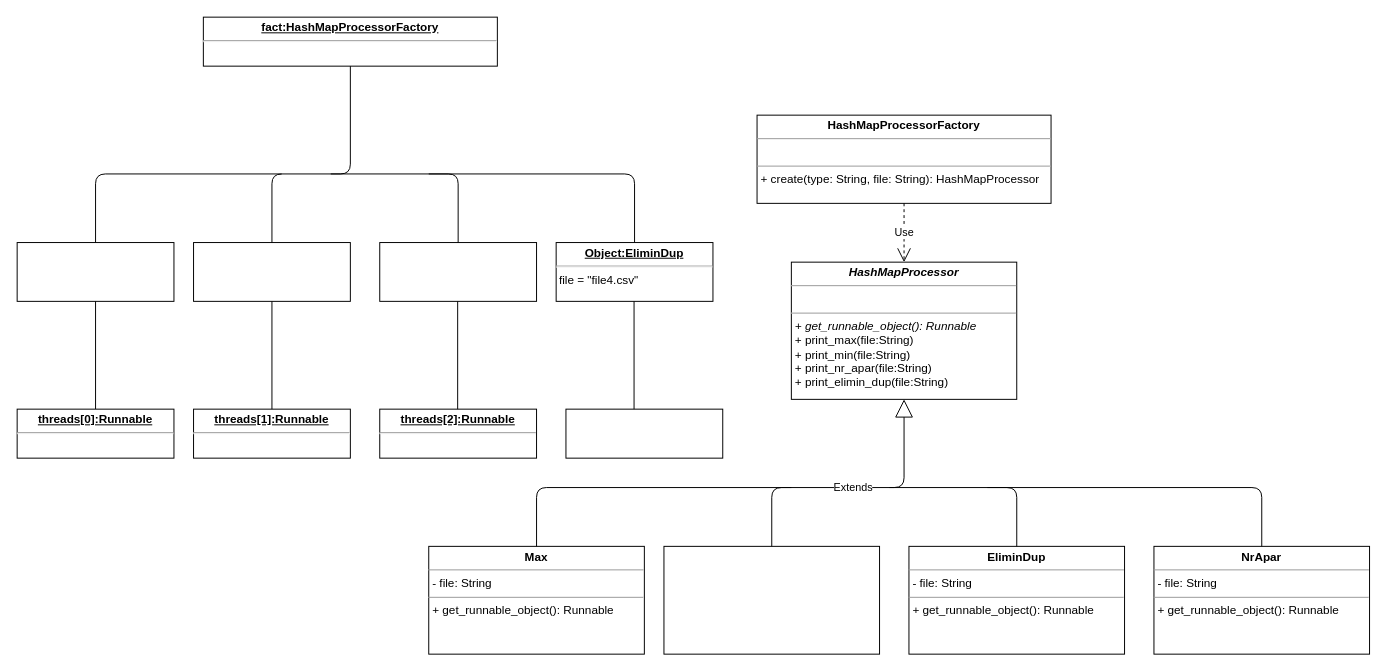
This 1387x671 diagram has some shape labels left out. Each missing label, with the centre of its shape:
Min - file: String + get_runnable_object(): Runnable: (x=771, y=599)
Object:Max file = "file1.csv": (x=95, y=271)
Object:Min file = "file2.csv": (x=271, y=271)
Object:NrApar file = "file3.csv": (x=458, y=271)
threads[3]:Runnable: (x=644, y=433)
